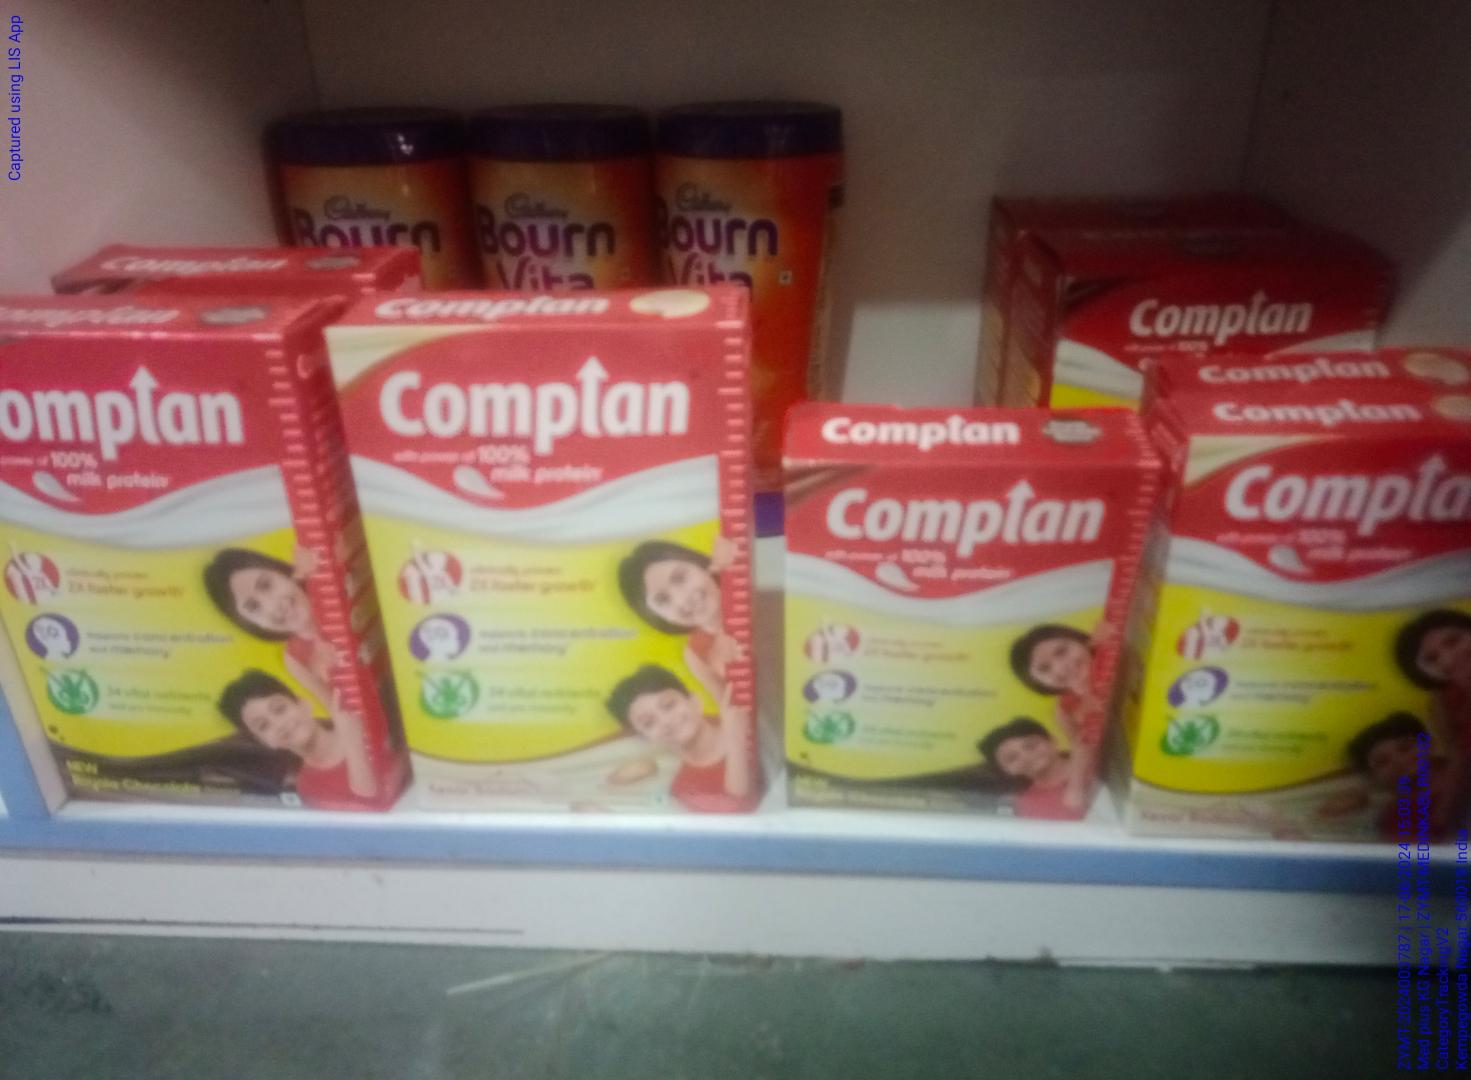COMPLAN_CHOCOLATE_200_GMS_PACK: (777, 459, 1110, 823)
COMPLAN_CHOCOLATE_500_GMS_PACK: (6, 330, 352, 811)
COMPLAN_KESAR_BADAM_200_GMS_PACK: (1146, 417, 1471, 836)
COMPLAN_KESAR_BADAM_500_GMS_PACK: (368, 322, 748, 807)
